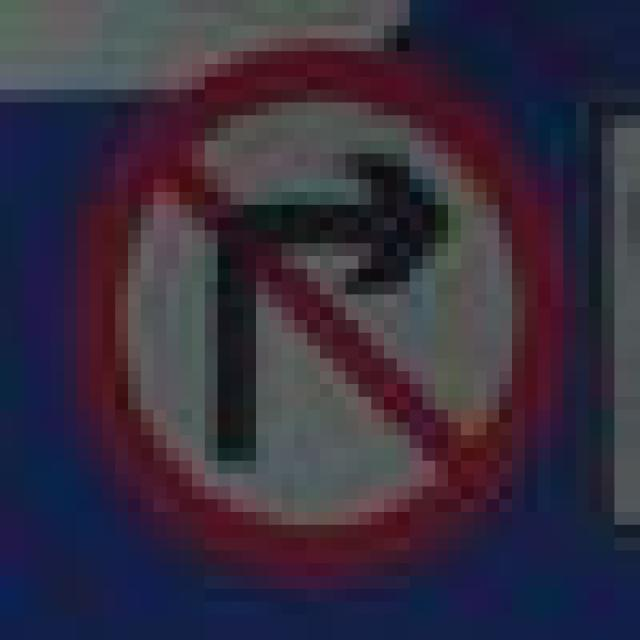right turn prohibited: (75, 32, 561, 591)
